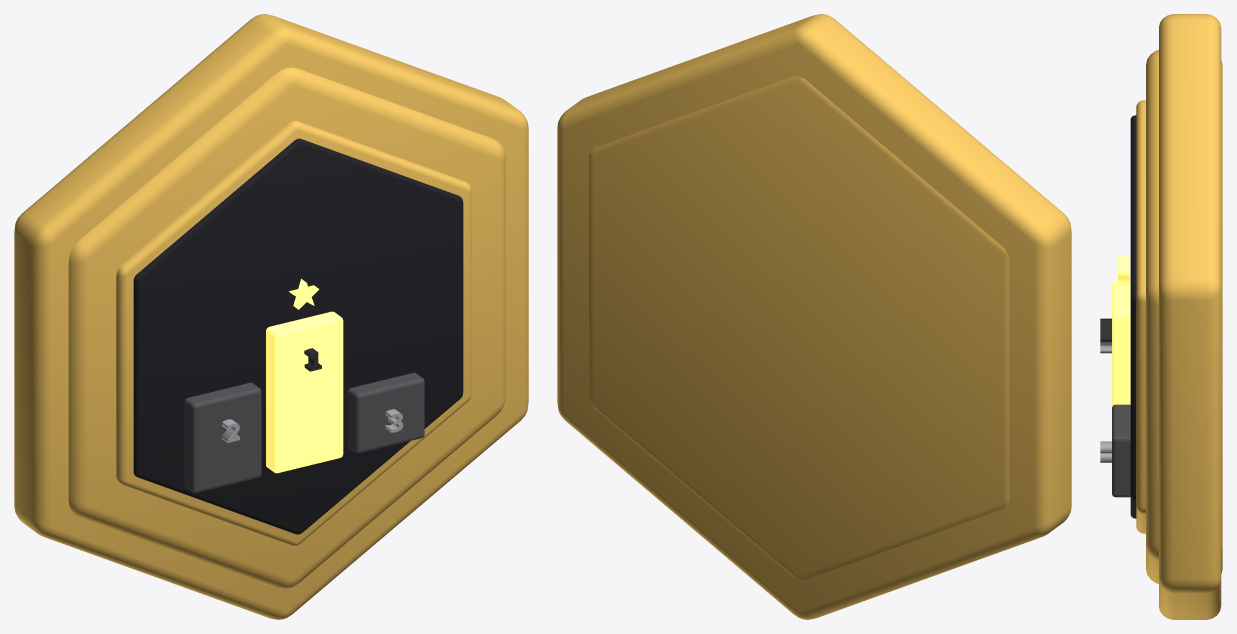
The model's file is podium-1.glb.
3 renders of one model, left to right at view 1: azimuth 30°, elevation 25°; view 2: azimuth 150°, elevation 25°; view 3: azimuth 270°, elevation 25°, orthographic.
Parts seen in each view (by area): view 1: panel, outer, frame, ring, Cube.001, Cube, Cube.002; view 2: frame, outer; view 3: outer, frame, ring, panel, Cube.001, Cube.002, Text.003, Text.001, Text.002.
Part boxes in pixels (bbox=[...]): panel: bbox=[133, 138, 463, 534]; outer: bbox=[14, 14, 528, 619]; frame: bbox=[68, 67, 505, 589]; ring: bbox=[116, 120, 471, 546]; Cube.001: bbox=[266, 311, 343, 473]; Cube: bbox=[184, 382, 261, 493]; Cube.002: bbox=[347, 372, 424, 453]; frame: bbox=[589, 76, 1009, 580]; outer: bbox=[557, 14, 1071, 619]; outer: bbox=[1159, 14, 1221, 619]; frame: bbox=[1146, 50, 1222, 583]; ring: bbox=[1136, 100, 1145, 533]; panel: bbox=[1130, 115, 1136, 518]; Cube.001: bbox=[1112, 281, 1130, 406]; Cube.002: bbox=[1112, 404, 1130, 497]; Text.003: bbox=[1118, 255, 1129, 285]; Text.001: bbox=[1100, 318, 1111, 341]; Text.002: bbox=[1100, 441, 1111, 462].
Size of the model in its own units: 1.21 by 1.38 by 0.255.
